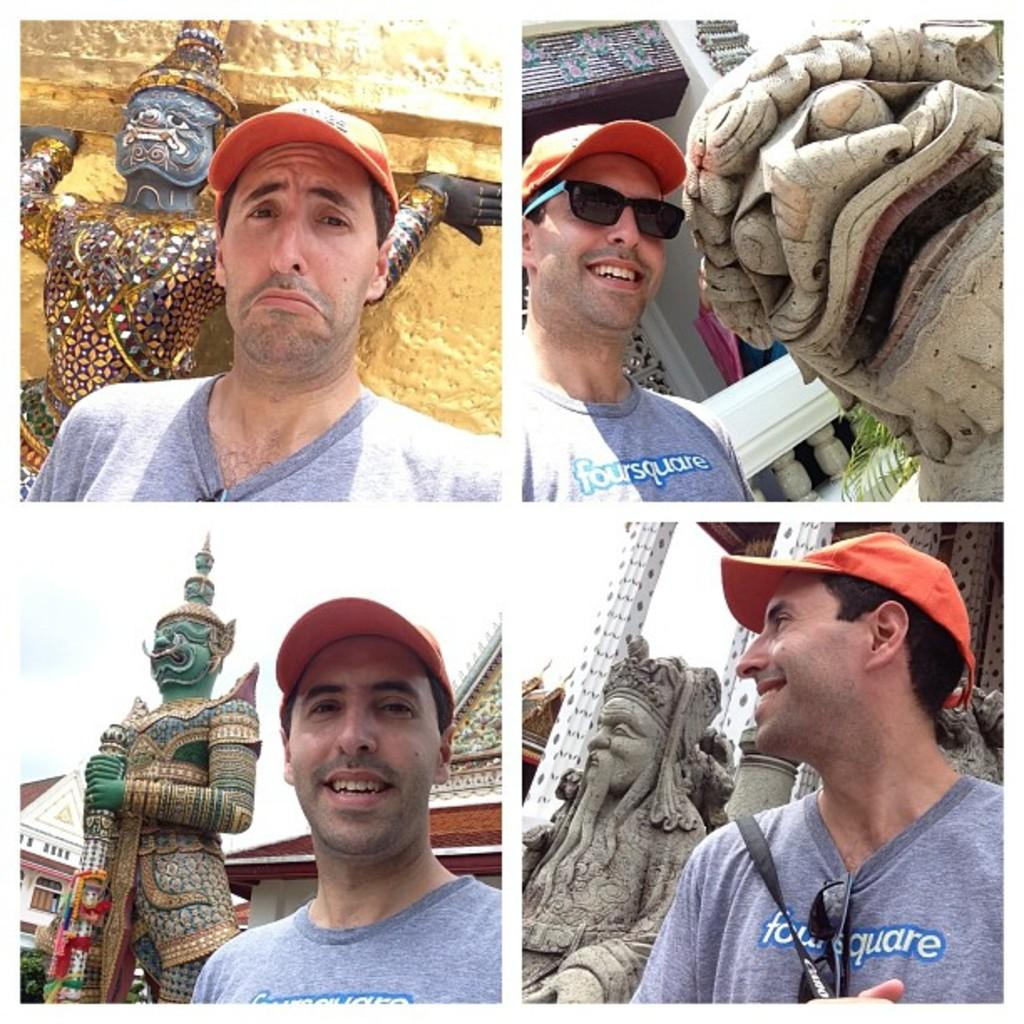Hat: (714, 532, 997, 714), (202, 96, 403, 234), (276, 596, 454, 708), (518, 120, 682, 195)
